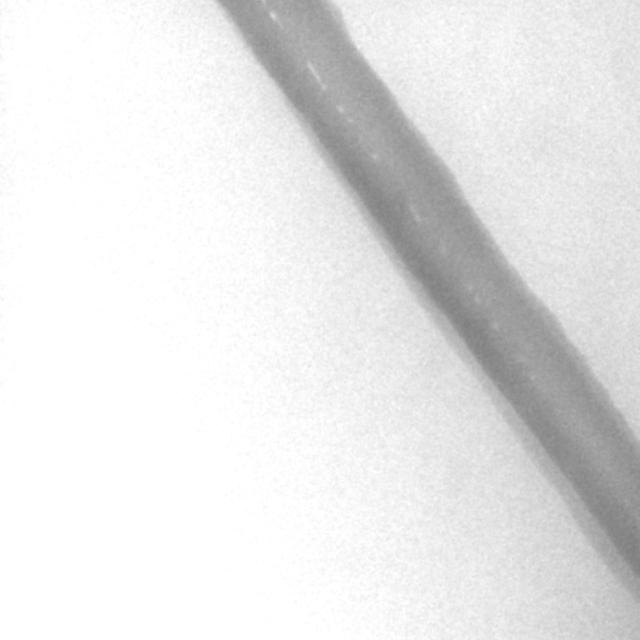air hole: (268, 9, 279, 25)
